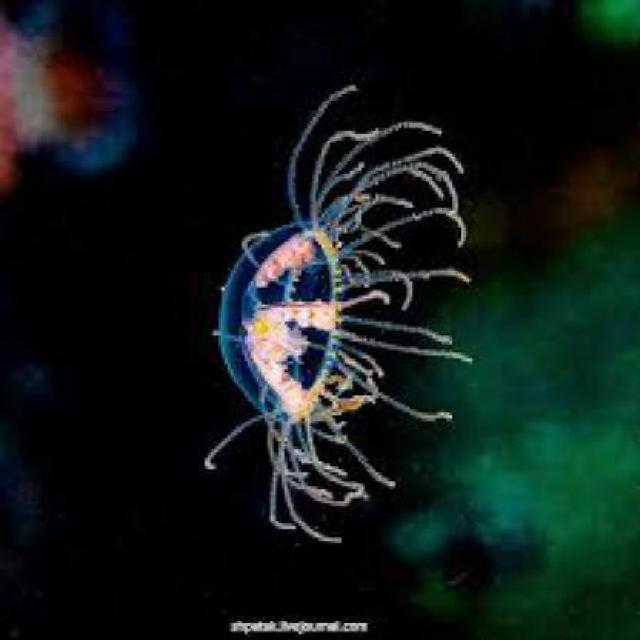Jellyfish: (202, 65, 469, 541)
